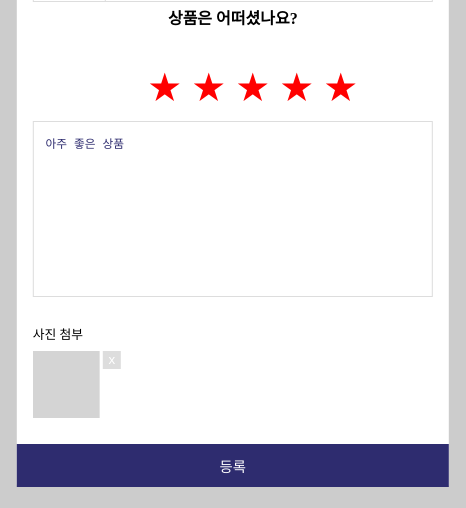
Test: EditReviewModal › 포토 구매평 › 등록된 이미지를 삭제했을 경우 › 새로운 이미지를 등록할 수 있다
(page scrolled)
What coordinates should you click on to do the following:
click the button "x"
I would click on:
 (112, 360)
Its box is x1=102 y1=352 x2=120 y2=370.
(page scrolled)
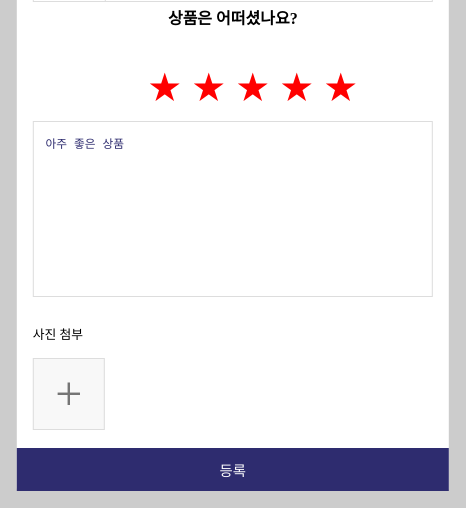
Expected: the file field labelled "+" is shown, x1=33 y1=358 x2=105 y2=430
